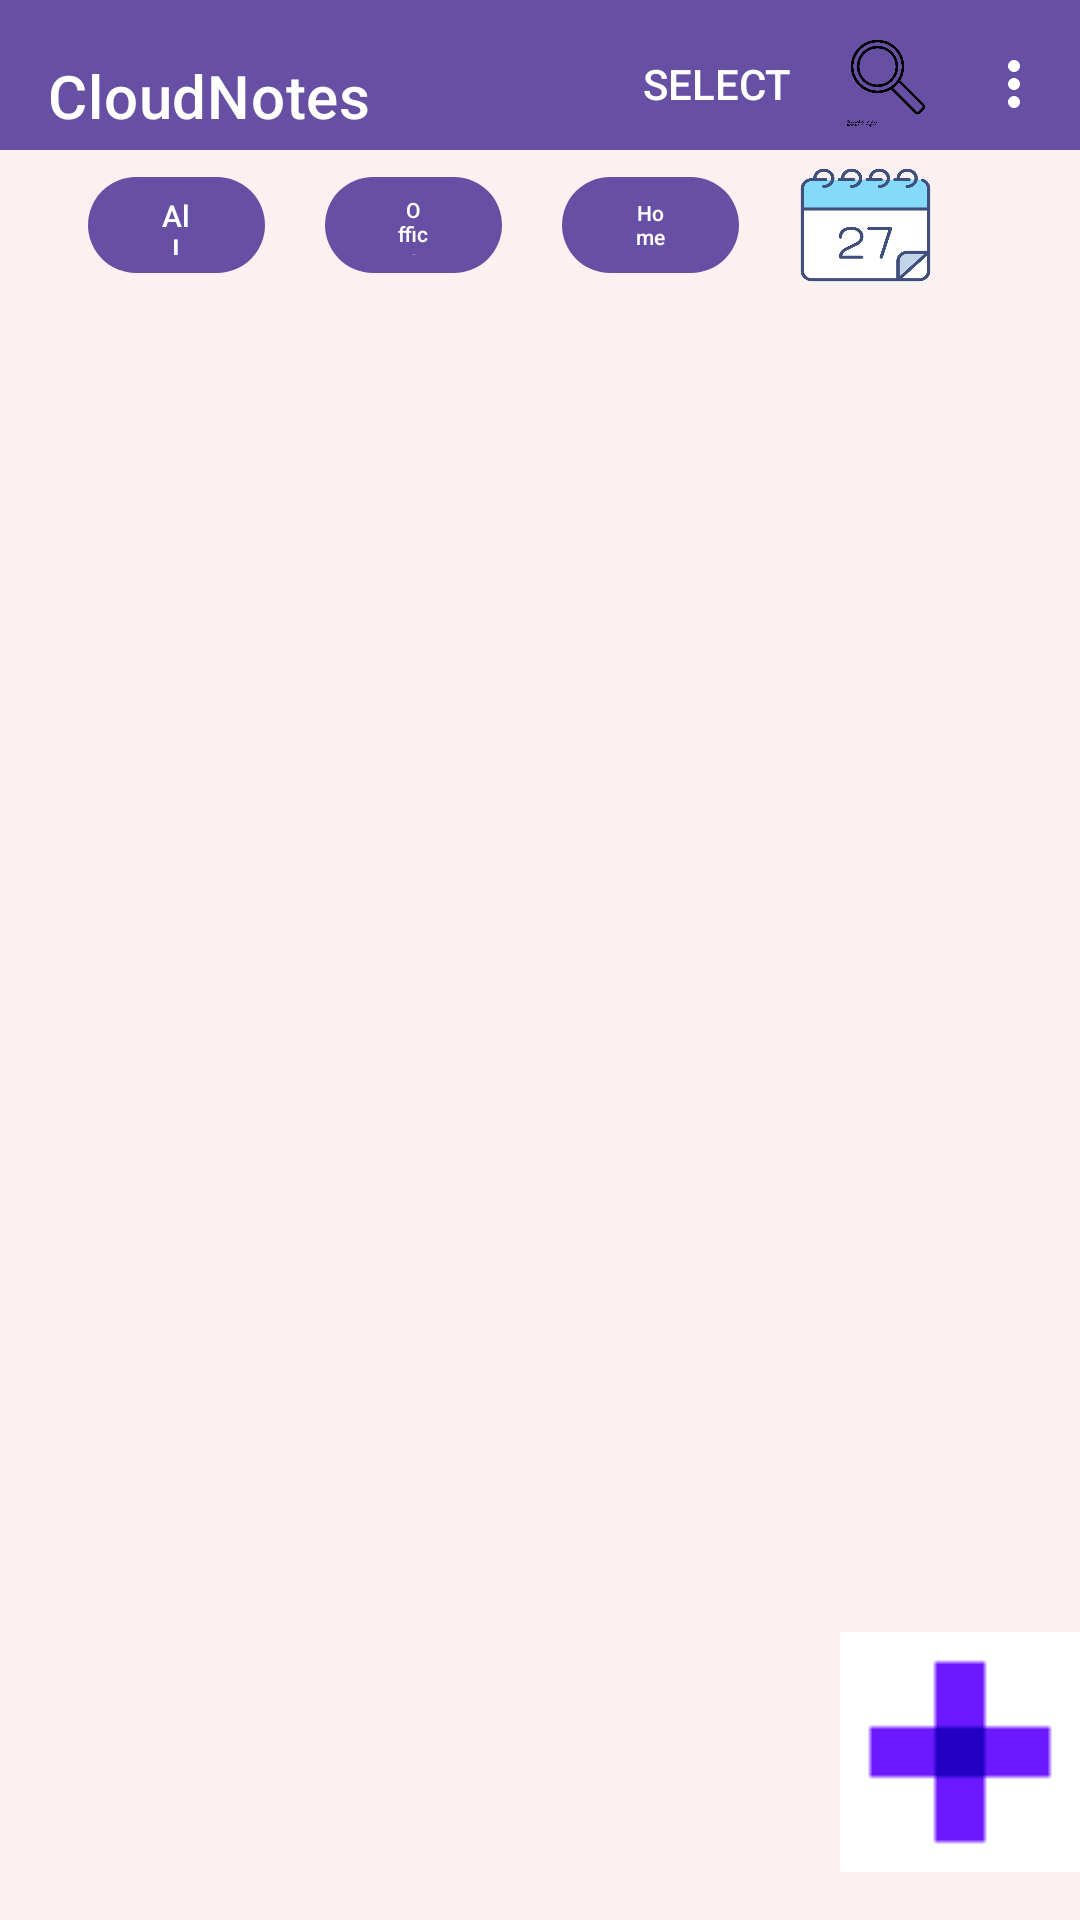

Icons on this 1080*1920 Android screen, each with its box as BBox(x1, y1, x2, y2):
addbutton: BBox(840, 1632, 1080, 1872)
calendar: BBox(800, 168, 931, 282)
